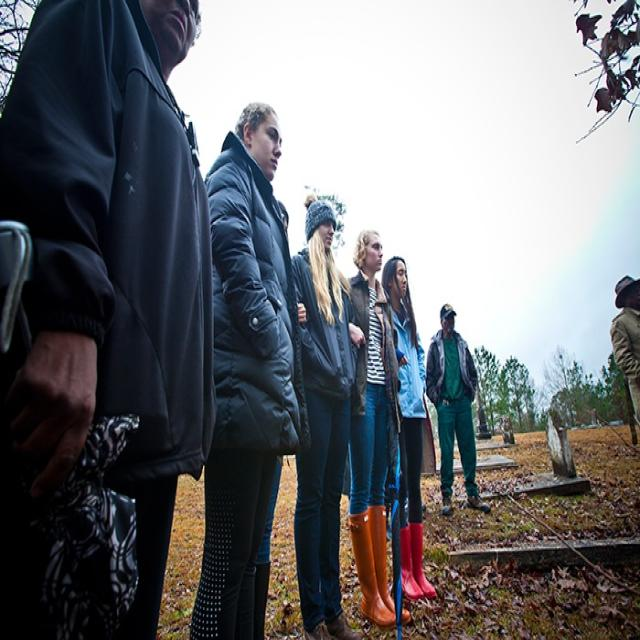body: (0, 0, 219, 639), (183, 93, 311, 639), (282, 186, 363, 638), (332, 222, 414, 633), (378, 253, 440, 604), (422, 294, 494, 516), (608, 273, 640, 425)
